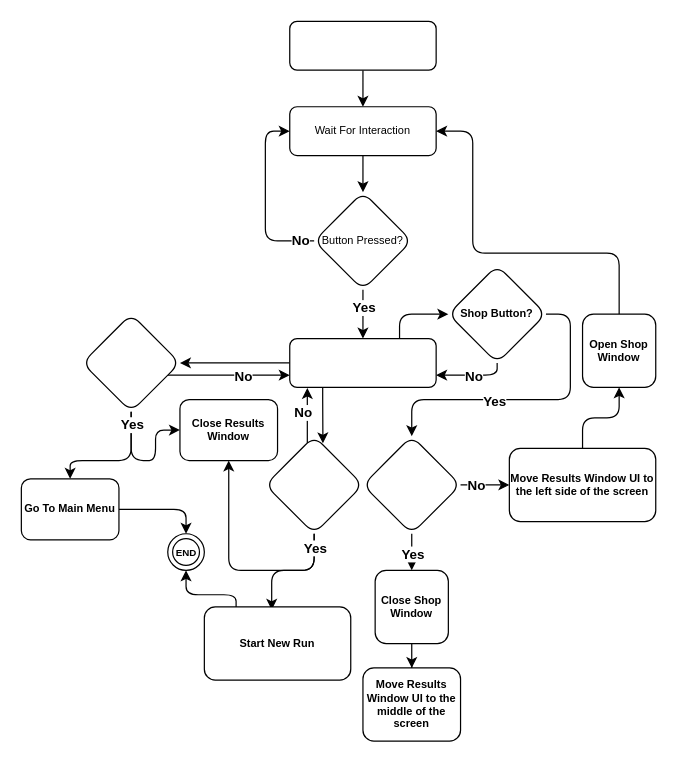
The diagram is 677 pixels wide and 763 high, and some of its shapes have lost their labels. Each missing label, with the centre of its shape:
"Check what button was pressed" goes at point 362,362.
"Is Shop Open?" goes at point 411,484.
"Main Menu Button?" goes at point 130,362.
"Play Again Button?" goes at point 313,484.
"Results Window Open" goes at point 362,45.
